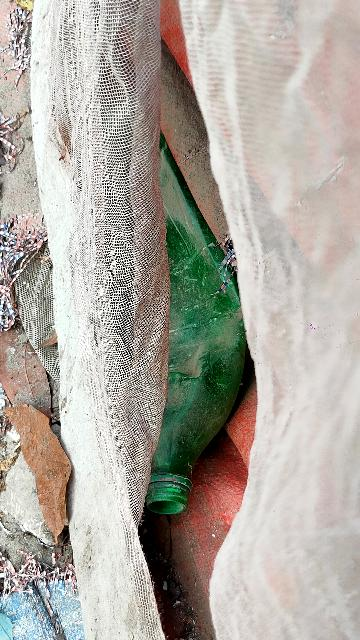bottle: (93, 151, 248, 521)
